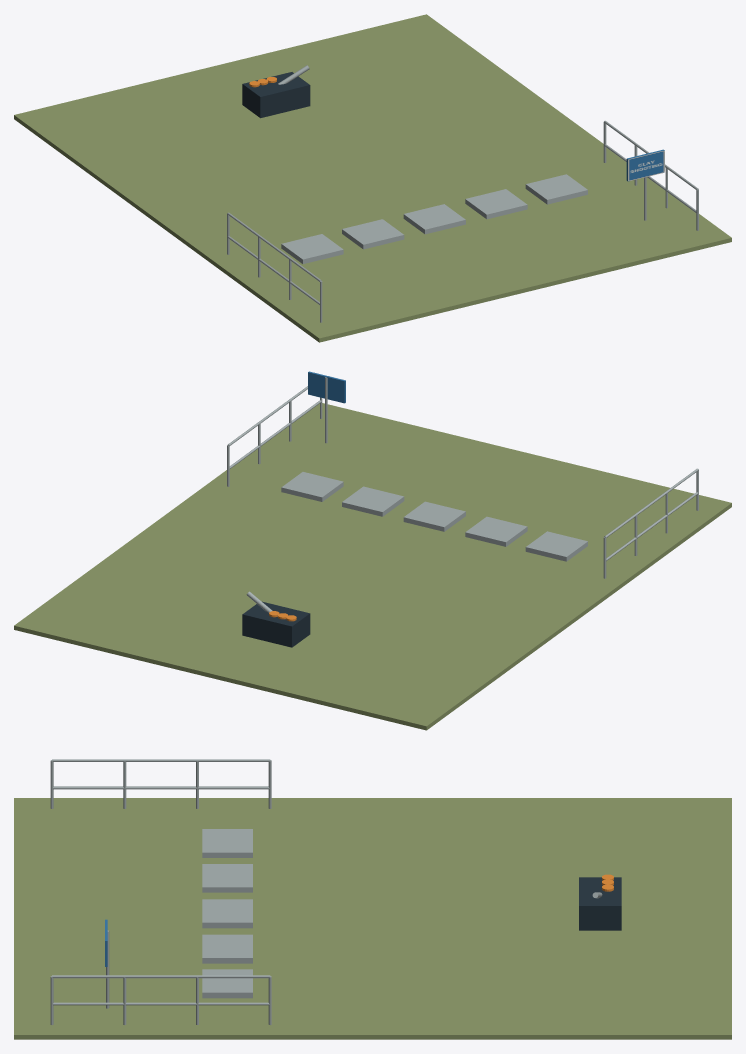
File: scendance-plan-clay-pigeon-shooting.glb
3 renders of one model, top to bottom at view 1: azimuth 30°, elevation 25°; view 2: azimuth 150°, elevation 25°; view 3: azimuth 270°, elevation 25°, orthographic. The views are drawn at different scales.
Size of the model in its own units: 10.3 by 1.67 by 13.2.
Materials: 6 (1 with a texture image).
